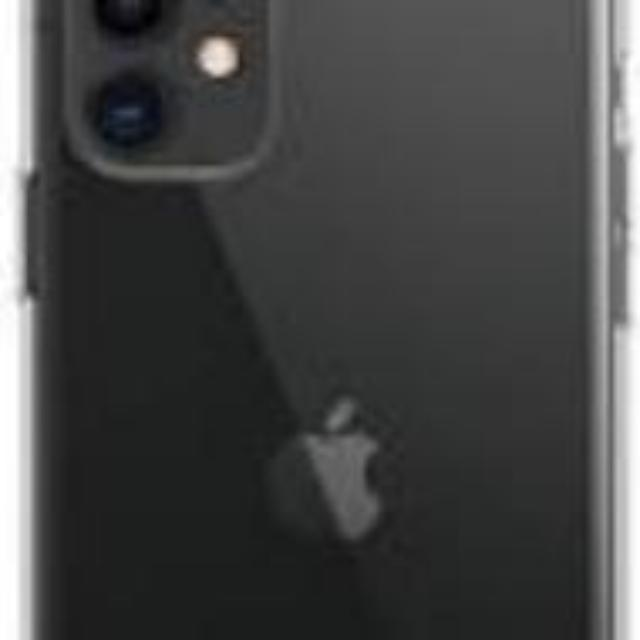phone: (21, 0, 599, 640)
